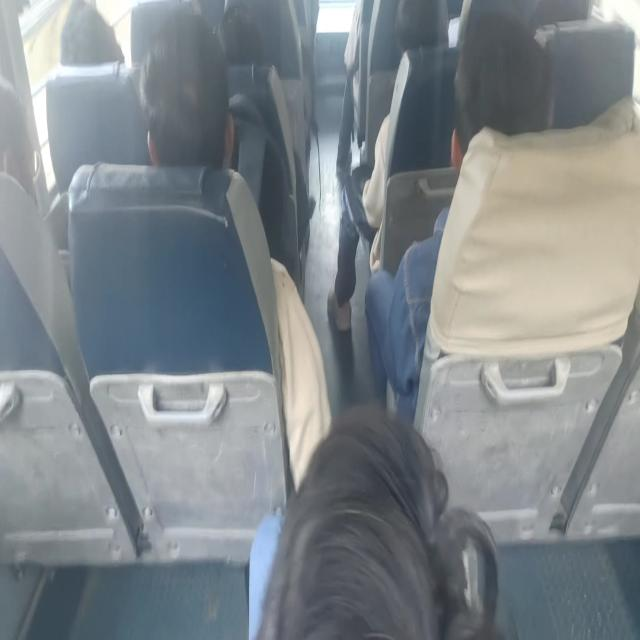person: (264, 394, 500, 640), (442, 26, 548, 180), (137, 26, 237, 177), (0, 82, 42, 207), (54, 0, 119, 64), (397, 0, 449, 65), (212, 1, 264, 64), (529, 0, 590, 39)
